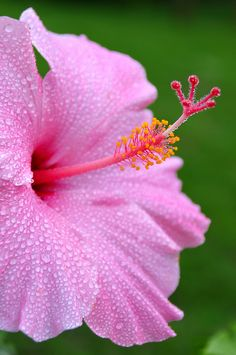Hibiscus: (1, 7, 226, 339)
